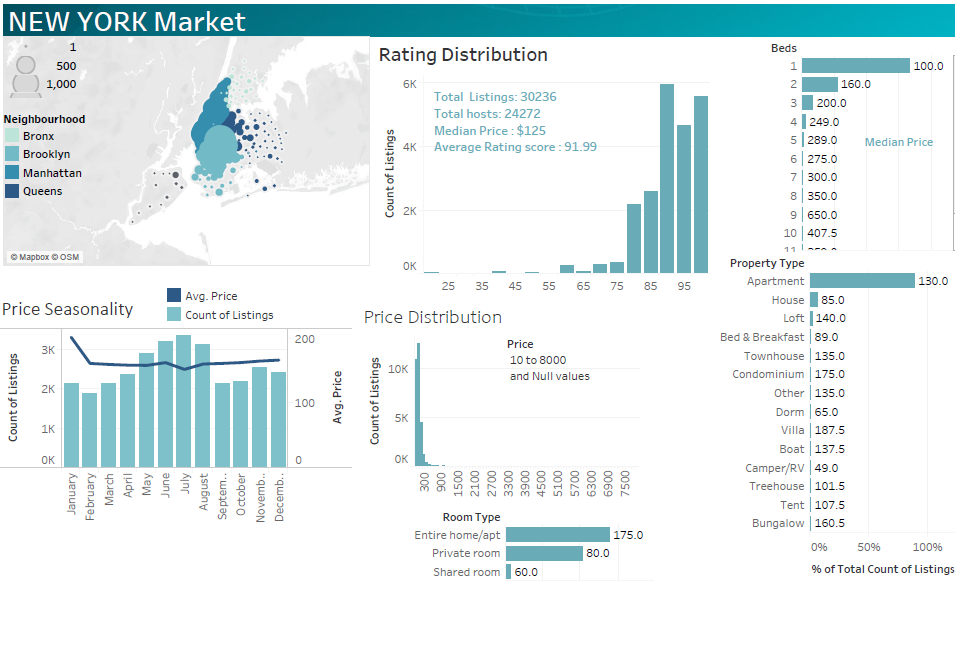

Layout of this report page (visuals, bound fields, positions):
{"tool":"tableau","page":{"name":"Dashboard 4","canvas":[1000,1000],"units":"permille","ordinal":1},"visuals":[{"type":"image","param":"C:/Users/asmaa/OneDrive/Desktop/LHL/Projects/Project3/Core pages.png","box":[33,41.2,949,51.2]},{"type":"text","box":[35.1,41.6,255.8,51.3]},{"type":"worksheet","title":"Rating Distribution","mark":"Automatic","rows":["Sheet1_1648BBF710C04A31AE966F43C19BCB7B"],"cols":["Review Scores Rating (bin) 2"],"box":[354.1,91.7,289.4,414.4]},{"type":"worksheet","title":"Listings by neighbourhood","mark":"Automatic","box":[33.1,92.9,317.8,369.2]},{"type":"legend","title":"Listings by neighbourhood","param":"[federated.1dx408e0g5map71gjf5d201qi953].[__tableau_internal_object_id__].[cnt:S","box":[35.5,94.1,110.4,97.8]},{"type":"worksheet","title":"Beds count","mark":"Automatic","rows":["Beds"],"cols":["Sheet1_1648BBF710C04A31AE966F43C19BCB7B"],"box":[659.3,94.1,209.8,342.3]},{"type":"text","box":[403.8,173.6,183,113.7]},{"type":"legend","title":"Listings by neighbourhood","param":"[federated.1dx408e0g5map71gjf5d201qi953].[none:Neighbourhood:nk]","box":[32.3,210.3,110.4,144.2]},{"type":"text","box":[776,237.2,85.2,51.3]},{"type":"worksheet","title":"Property Type","mark":"Automatic","rows":["Property Type"],"box":[649.8,440.1,224,531.8]},{"type":"legend","title":"Price Seasonality","param":"[federated.1dx408e0g5map71gjf5d201qi953].[:Measure Names]","box":[172.7,493.9,160.9,55]},{"type":"worksheet","title":"Price Seasonality","mark":"Automatic","rows":["Sheet1_1648BBF710C04A31AE966F43C19BCB7B","Price"],"cols":["Host Since"],"box":[28.4,502.4,306.8,374.1]},{"type":"worksheet","title":"Price Distribution","mark":"Automatic","rows":["Sheet1_1648BBF710C04A31AE966F43C19BCB7B"],"cols":["Price (bin)"],"box":[341.5,517.1,242.1,316.6]},{"type":"filter","title":"Rating Distribution","param":"[federated.1dx408e0g5map71gjf5d201qi953].[none:Price:qk]","box":[468.5,573.4,101.2,103.9]},{"type":"worksheet","title":"Room Type","mark":"Automatic","rows":["Room Type"],"cols":["Sheet1_1648BBF710C04A31AE966F43C19BCB7B"],"box":[386.4,847.2,223.2,138.1]}]}

Visuals, with their boxes on the dashboard's canvas, which has no fixed pixel size, in thousandths of its width and height (x1, y1, x2, y2). These are canvas units, not pixel positions in the 955x645 screenshot, which may show the page scaled, cropped or inside an application window:
image: (x1=33, y1=41, x2=982, y2=92)
text: (x1=35, y1=42, x2=291, y2=93)
"Rating Distribution" worksheet: (x1=354, y1=92, x2=644, y2=506)
"Listings by neighbourhood" worksheet: (x1=33, y1=93, x2=351, y2=462)
"Listings by neighbourhood" legend: (x1=36, y1=94, x2=146, y2=192)
"Beds count" worksheet: (x1=659, y1=94, x2=869, y2=436)
text: (x1=404, y1=174, x2=587, y2=287)
"Listings by neighbourhood" legend: (x1=32, y1=210, x2=143, y2=354)
text: (x1=776, y1=237, x2=861, y2=288)
"Property Type" worksheet: (x1=650, y1=440, x2=874, y2=972)
"Price Seasonality" legend: (x1=173, y1=494, x2=334, y2=549)
"Price Seasonality" worksheet: (x1=28, y1=502, x2=335, y2=876)
"Price Distribution" worksheet: (x1=342, y1=517, x2=584, y2=834)
"Rating Distribution" filter: (x1=468, y1=573, x2=570, y2=677)
"Room Type" worksheet: (x1=386, y1=847, x2=610, y2=985)
